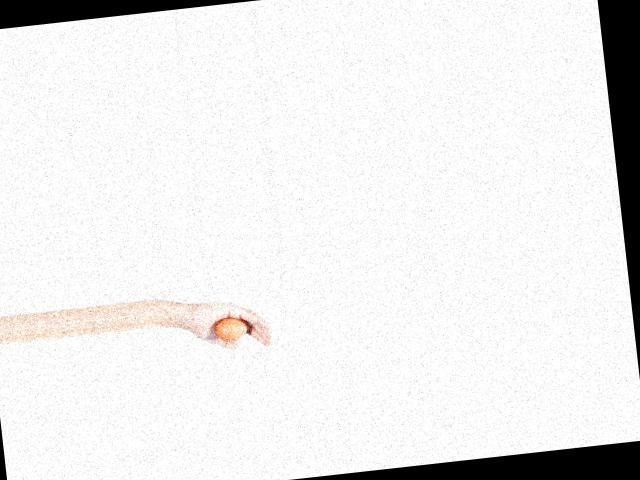egg: (214, 316, 247, 342)
